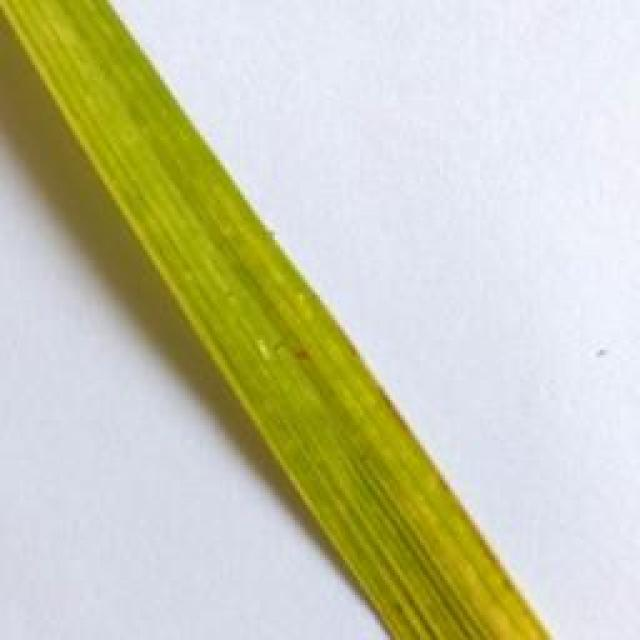Brown_Spot: (290, 344, 319, 368)
